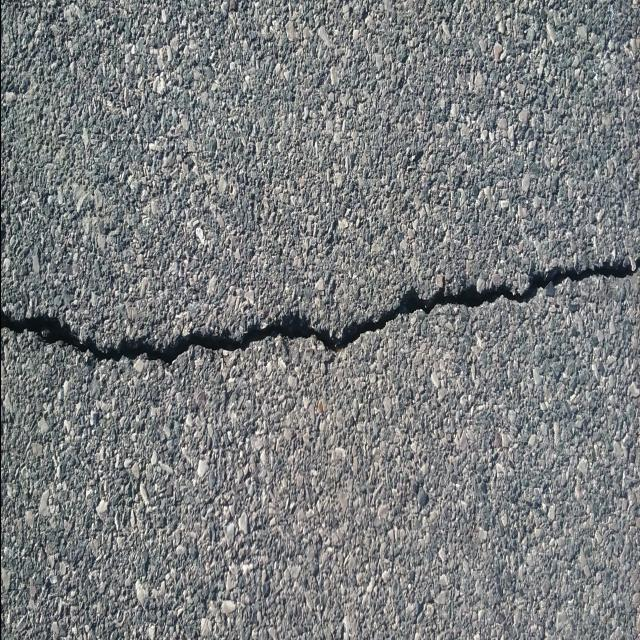Crack: (0, 254, 640, 374)
